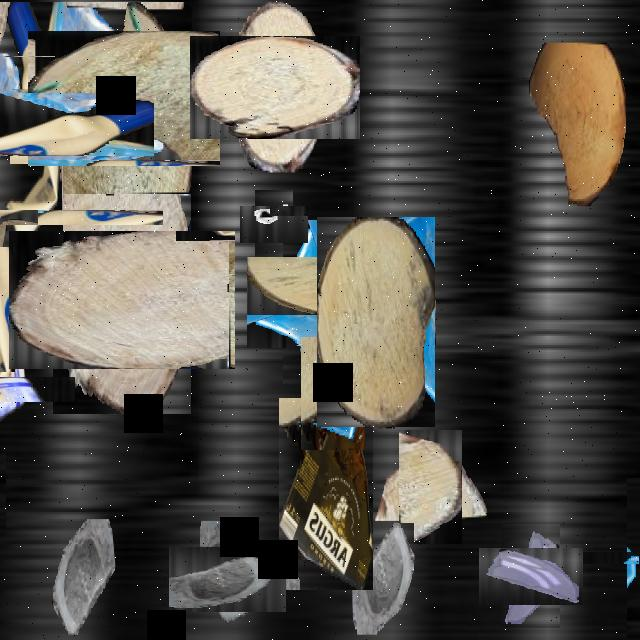glass: (265, 238, 393, 366), (25, 73, 131, 179), (182, 534, 274, 625), (51, 519, 115, 633), (301, 338, 365, 452), (352, 523, 414, 633), (491, 536, 572, 616), (590, 514, 640, 601)
metal: (248, 198, 300, 250), (0, 448, 6, 533)
plastic: (279, 398, 373, 590), (0, 47, 108, 201), (0, 135, 89, 298), (0, 351, 50, 427)
wood: (31, 209, 213, 392), (42, 16, 206, 180), (317, 217, 435, 427), (206, 18, 344, 156), (529, 43, 625, 206), (386, 442, 474, 532), (0, 29, 28, 84)
